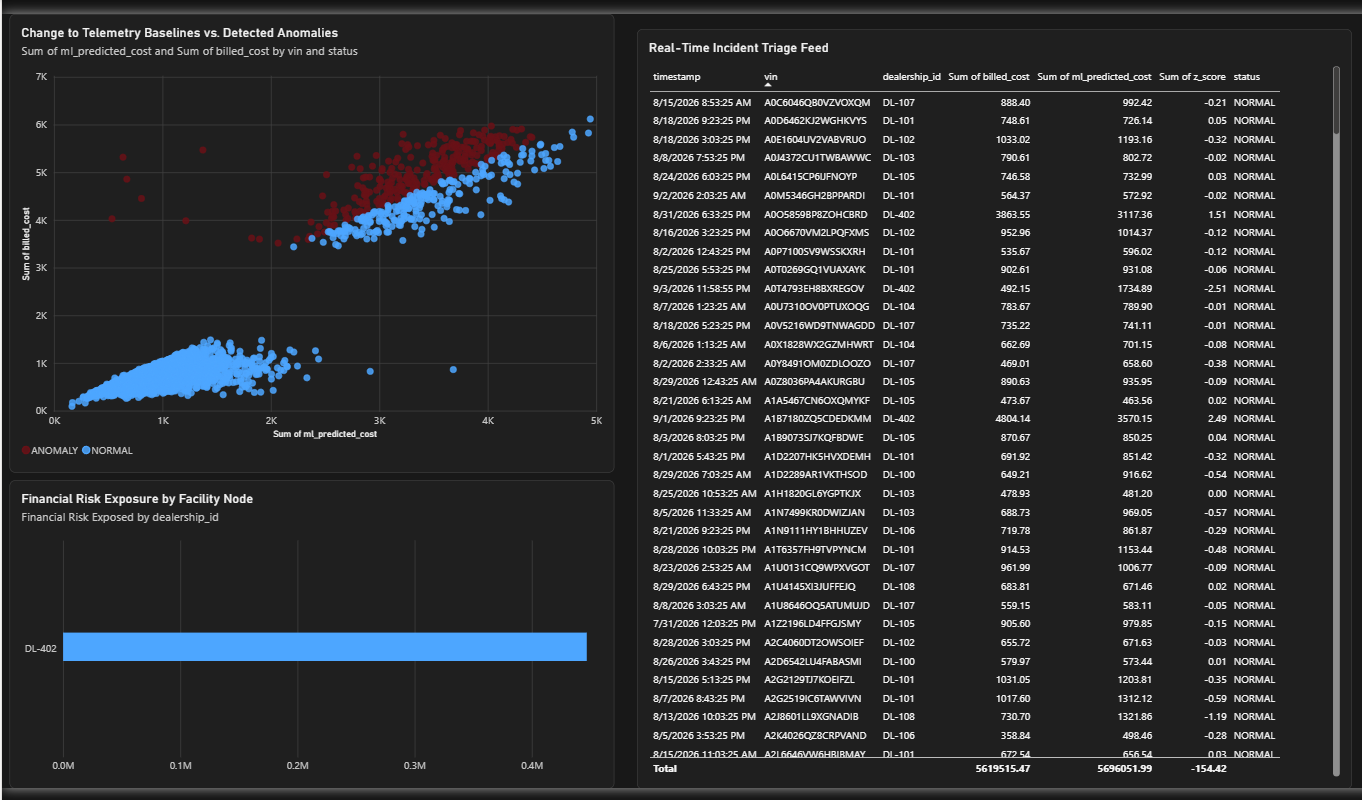

The dashboard page shown, as its layout file describes it:
{"tool":"powerbi","page":{"name":"Page 1","canvas":[1920,1080],"ordinal":0},"visuals":[{"type":"scatterChart","title":"Change to Telemetry Baselines vs. Detected Anomalies","fields":{"Category":["tracegate_transactions.vin"],"Series":["tracegate_transactions.status"],"X":["Sum(tracegate_transactions.ml_predicted_cost)"],"Y":["Sum(tracegate_transactions.billed_cost)"]},"box":[10.3,0,843.9,640.1],"z":0},{"type":"clusteredBarChart","title":"Financial Risk Exposure by Facility Node    ","fields":{"Category":["tracegate_transactions.dealership_id"],"Y":["tracegate_transactions.Financial Risk Exposed"]},"box":[10.3,650.4,843.9,430.2],"z":1000},{"type":"tableEx","title":"Real-Time Incident Triage Feed        ","fields":{"Values":["tracegate_transactions.timestamp","tracegate_transactions.vin","tracegate_transactions.dealership_id","Sum(tracegate_transactions.billed_cost)","Sum(tracegate_transactions.ml_predicted_cost)","Sum(tracegate_transactions.z_score)","tracegate_transactions.status"]},"box":[886,20.9,997.7,1060.5],"z":2000}]}

Visuals, with their boxes on the page's 1920x1080 design canvas (x1, y1, x2, y2). These are canvas units, not pixel positions in the 1362x800 screenshot, which may show the page scaled, cropped or inside an application window:
"Change to Telemetry Baselines vs. Detected Anomalies" scatterChart: [x1=10, y1=0, x2=854, y2=640]
"Financial Risk Exposure by Facility Node    " clusteredBarChart: [x1=10, y1=650, x2=854, y2=1081]
"Real-Time Incident Triage Feed        " tableEx: [x1=886, y1=21, x2=1884, y2=1081]
